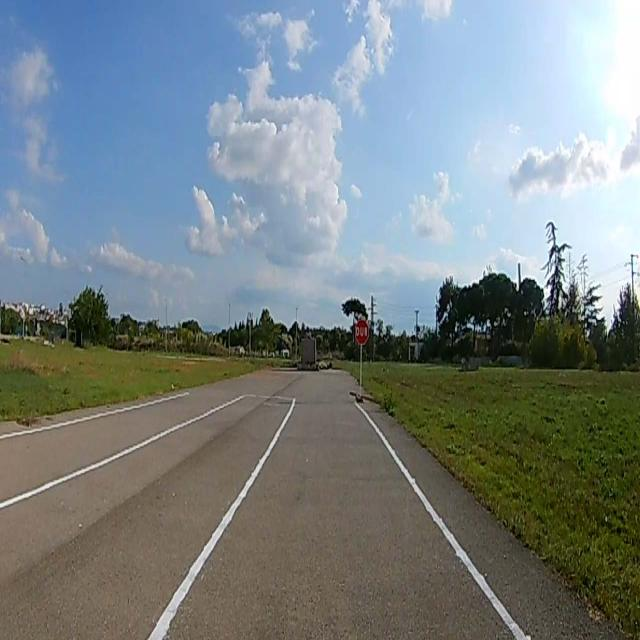dur: (355, 320, 369, 346)
